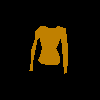maglia: (29, 25, 68, 74)
